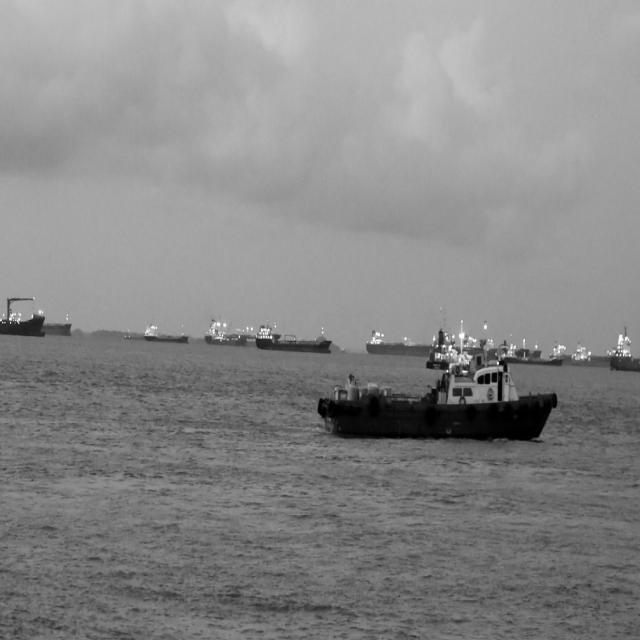ship: (313, 344, 557, 445), (366, 302, 542, 360), (256, 318, 332, 352), (425, 319, 473, 372), (143, 302, 190, 346), (495, 336, 567, 364), (0, 295, 46, 337), (204, 315, 258, 348), (609, 324, 640, 372), (568, 338, 610, 365), (43, 312, 72, 337), (120, 331, 143, 342)
